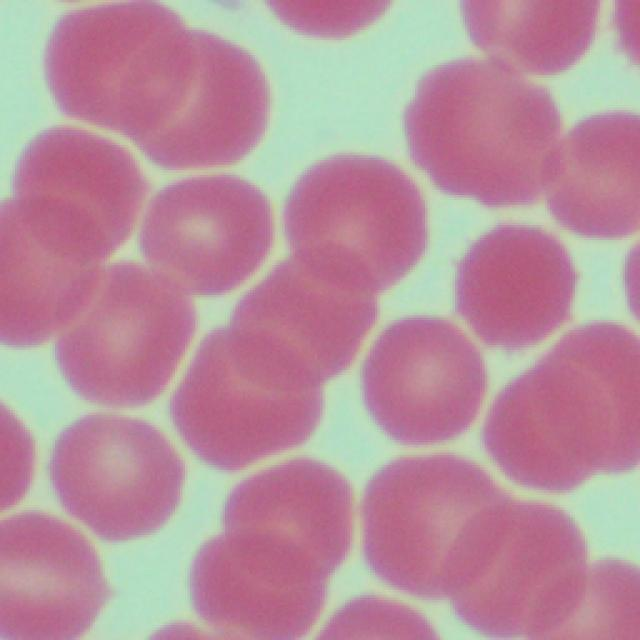RBC: (0, 120, 170, 421), (175, 255, 329, 481), (192, 449, 339, 639), (484, 316, 640, 494), (401, 46, 562, 218), (127, 8, 266, 202), (447, 484, 608, 640), (352, 448, 492, 615), (287, 143, 427, 296), (46, 256, 185, 408), (38, 0, 191, 134), (144, 161, 273, 303), (448, 215, 573, 359), (50, 408, 180, 546), (354, 316, 482, 452), (19, 133, 144, 247), (541, 96, 636, 240), (0, 514, 101, 640), (458, 0, 610, 78), (252, 0, 402, 40), (0, 381, 33, 518)
